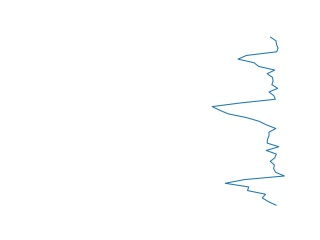underwaterNaturalLevee: (208, 35, 290, 209)
